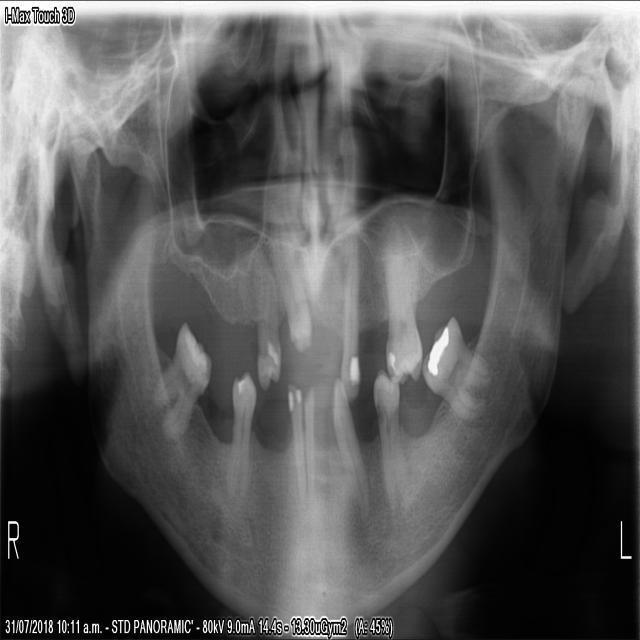LCD: (330, 366, 368, 506)
LCU: (339, 247, 360, 398)
LID: (303, 384, 319, 492)
LPMD: (371, 363, 412, 512)
LPMU: (380, 247, 422, 386)
RID: (284, 370, 304, 488)
RIU: (268, 251, 313, 362), (253, 270, 281, 397)
RMD: (155, 313, 214, 445)
RPMD: (226, 368, 257, 482)
